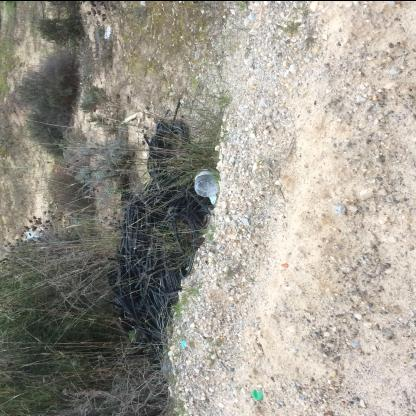plastik: (194, 166, 220, 196), (252, 388, 263, 400), (181, 339, 187, 347)
